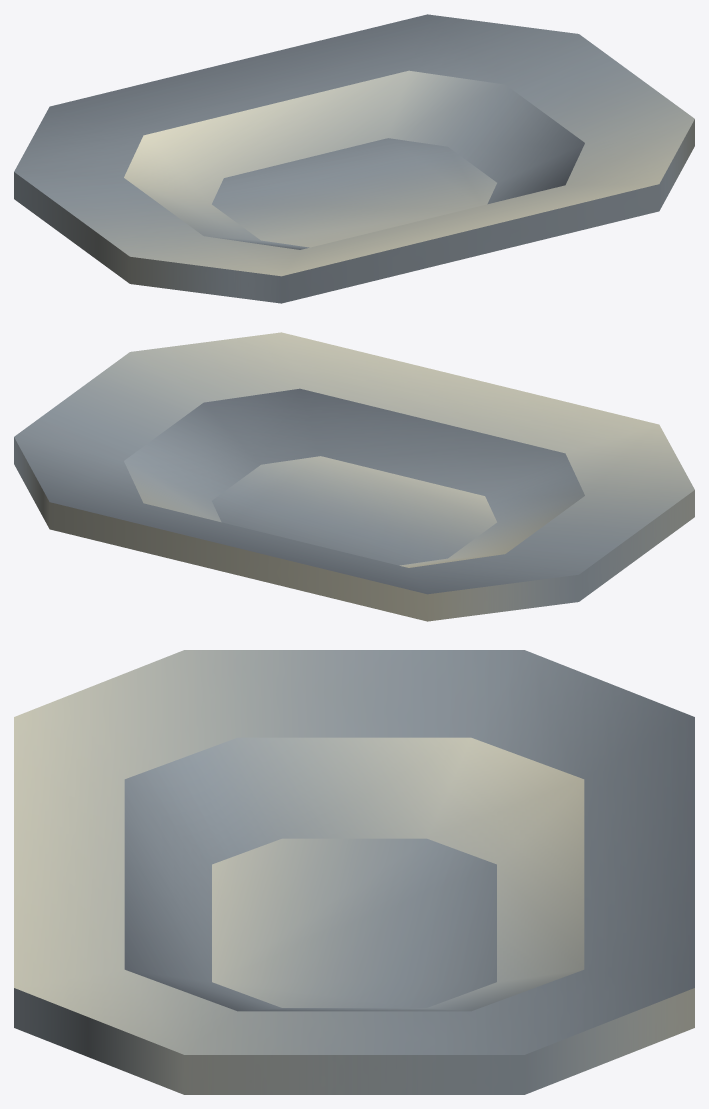
Rendered from plate_silver_oval.fbx.
3 views of the same model, one above another, from view 1: azimuth 30°, elevation 25°; view 2: azimuth 150°, elevation 25°; view 3: azimuth 270°, elevation 25° (orthographic). The views are drawn at different scales.
Parts seen in each view (by area): view 1: plate_silver_oval; view 2: plate_silver_oval; view 3: plate_silver_oval.
Part boxes in pixels (box(x1,y1,x2,y2)): plate_silver_oval: box(14, 14, 694, 303); plate_silver_oval: box(14, 332, 694, 621); plate_silver_oval: box(14, 650, 694, 1094).
Size of the model in its own units: 65.03 by 6.82 by 46.22.
